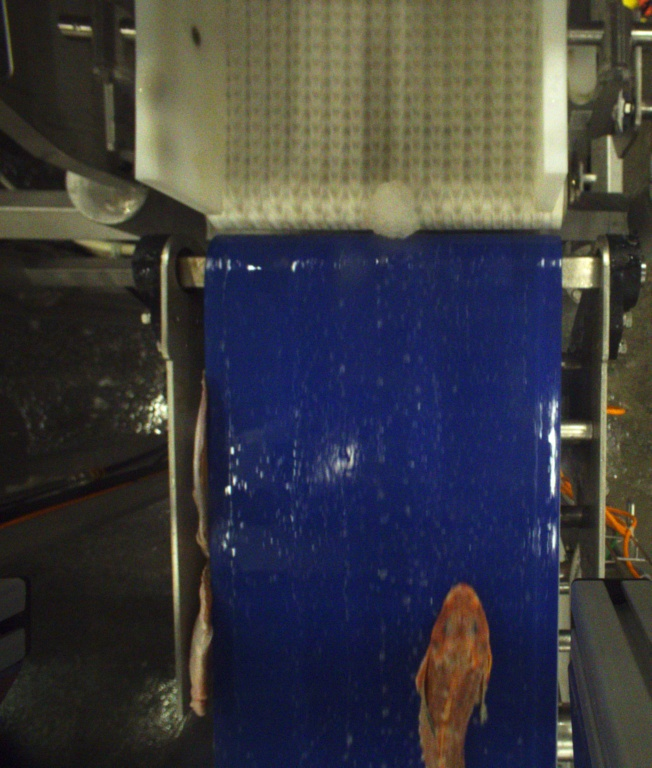GUU: (415, 582, 493, 768)
